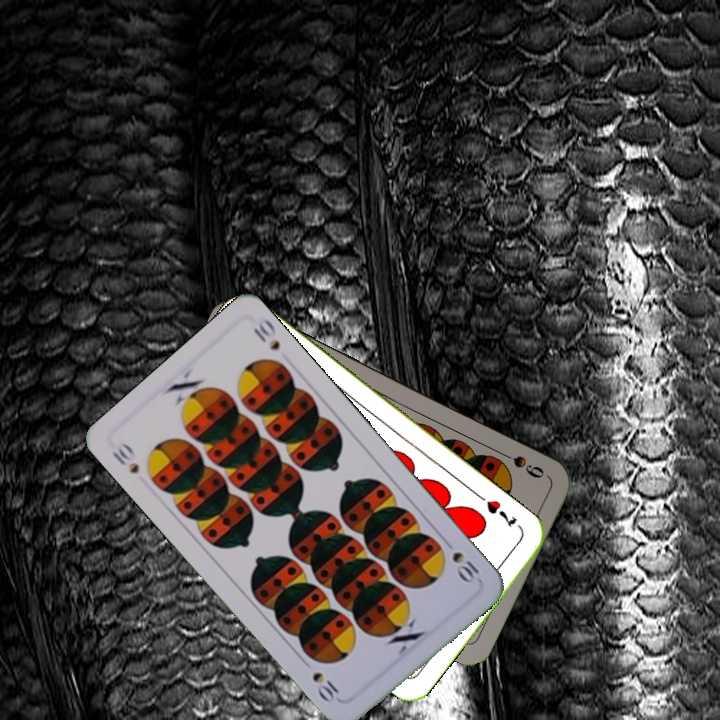H7: (482, 496, 519, 531)
S10: (439, 534, 482, 586), (108, 439, 142, 477)
S9: (493, 446, 547, 481)
